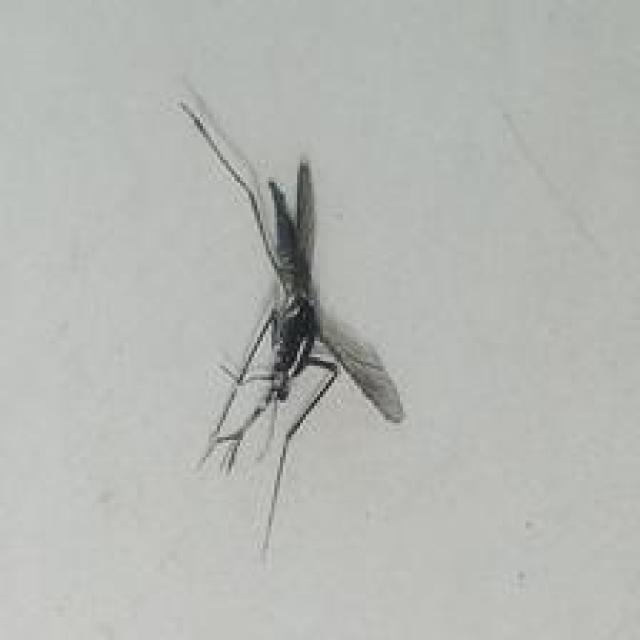Aedes albopictus: (176, 89, 407, 560)
